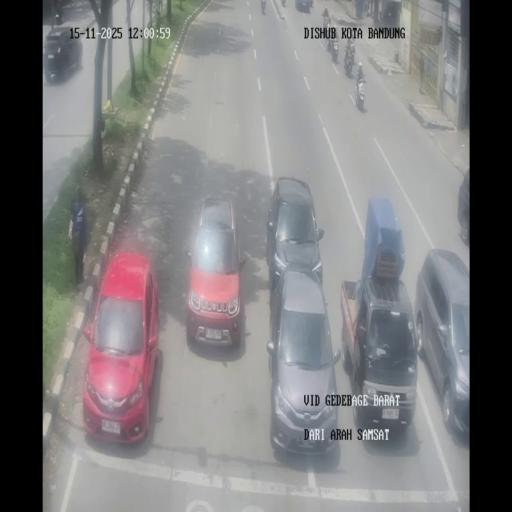car: (82, 252, 159, 443), (266, 267, 340, 458), (414, 250, 469, 439), (43, 27, 83, 84), (457, 166, 470, 246), (295, 0, 312, 12)
motorcycle: (355, 77, 366, 111), (344, 50, 354, 77), (322, 7, 330, 32), (331, 40, 339, 63), (323, 28, 330, 50), (363, 1, 369, 17), (386, 8, 392, 23), (378, 9, 384, 23), (261, 1, 266, 15), (281, 0, 286, 7)
truck: (341, 200, 418, 436)
